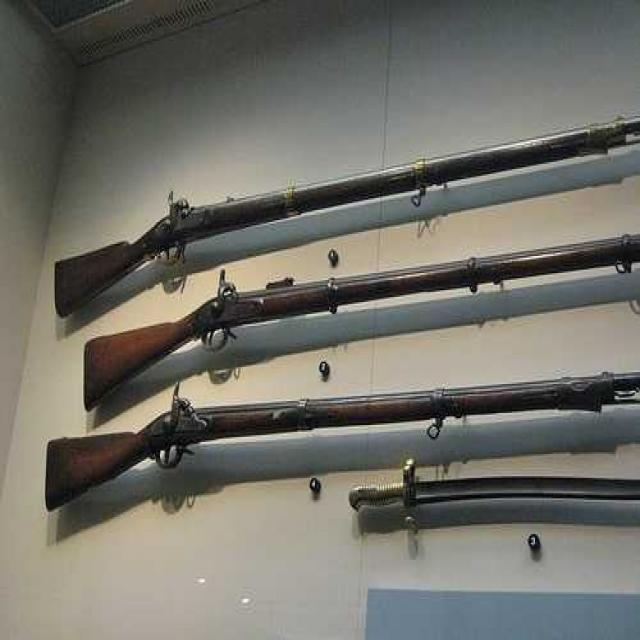weapon: (36, 76, 640, 330), (70, 195, 640, 422), (33, 384, 640, 484)
